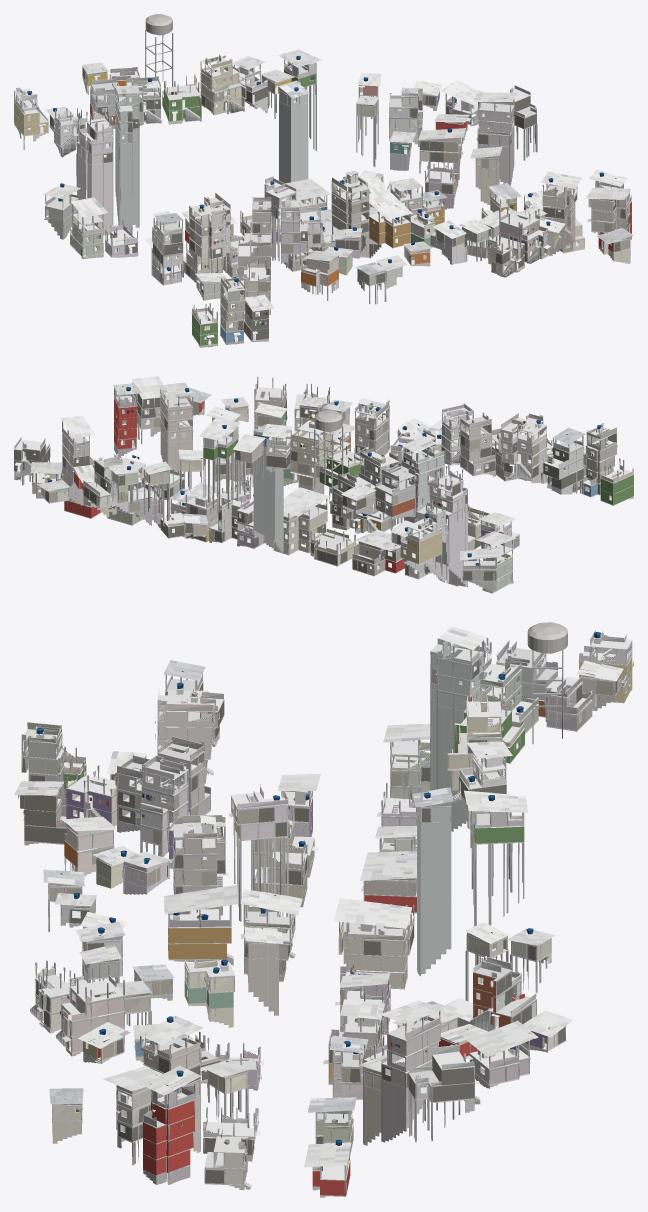
3 views of the same model, one above another, from view 1: azimuth 30°, elevation 25°; view 2: azimuth 150°, elevation 25°; view 3: azimuth 270°, elevation 25° (orthographic). The views are drawn at different scales.
Visible parts, largest first — view 1: T_26_28; view 2: T_26_28; view 3: T_26_28.
Boxes of the visible parts, left/top/right/bottom form: T_26_28: left=14, top=14, right=633, bottom=347; T_26_28: left=14, top=376, right=633, bottom=593; T_26_28: left=14, top=622, right=633, bottom=1197.
Bounding box in the file's own units: 135 × 60.58 × 101.
